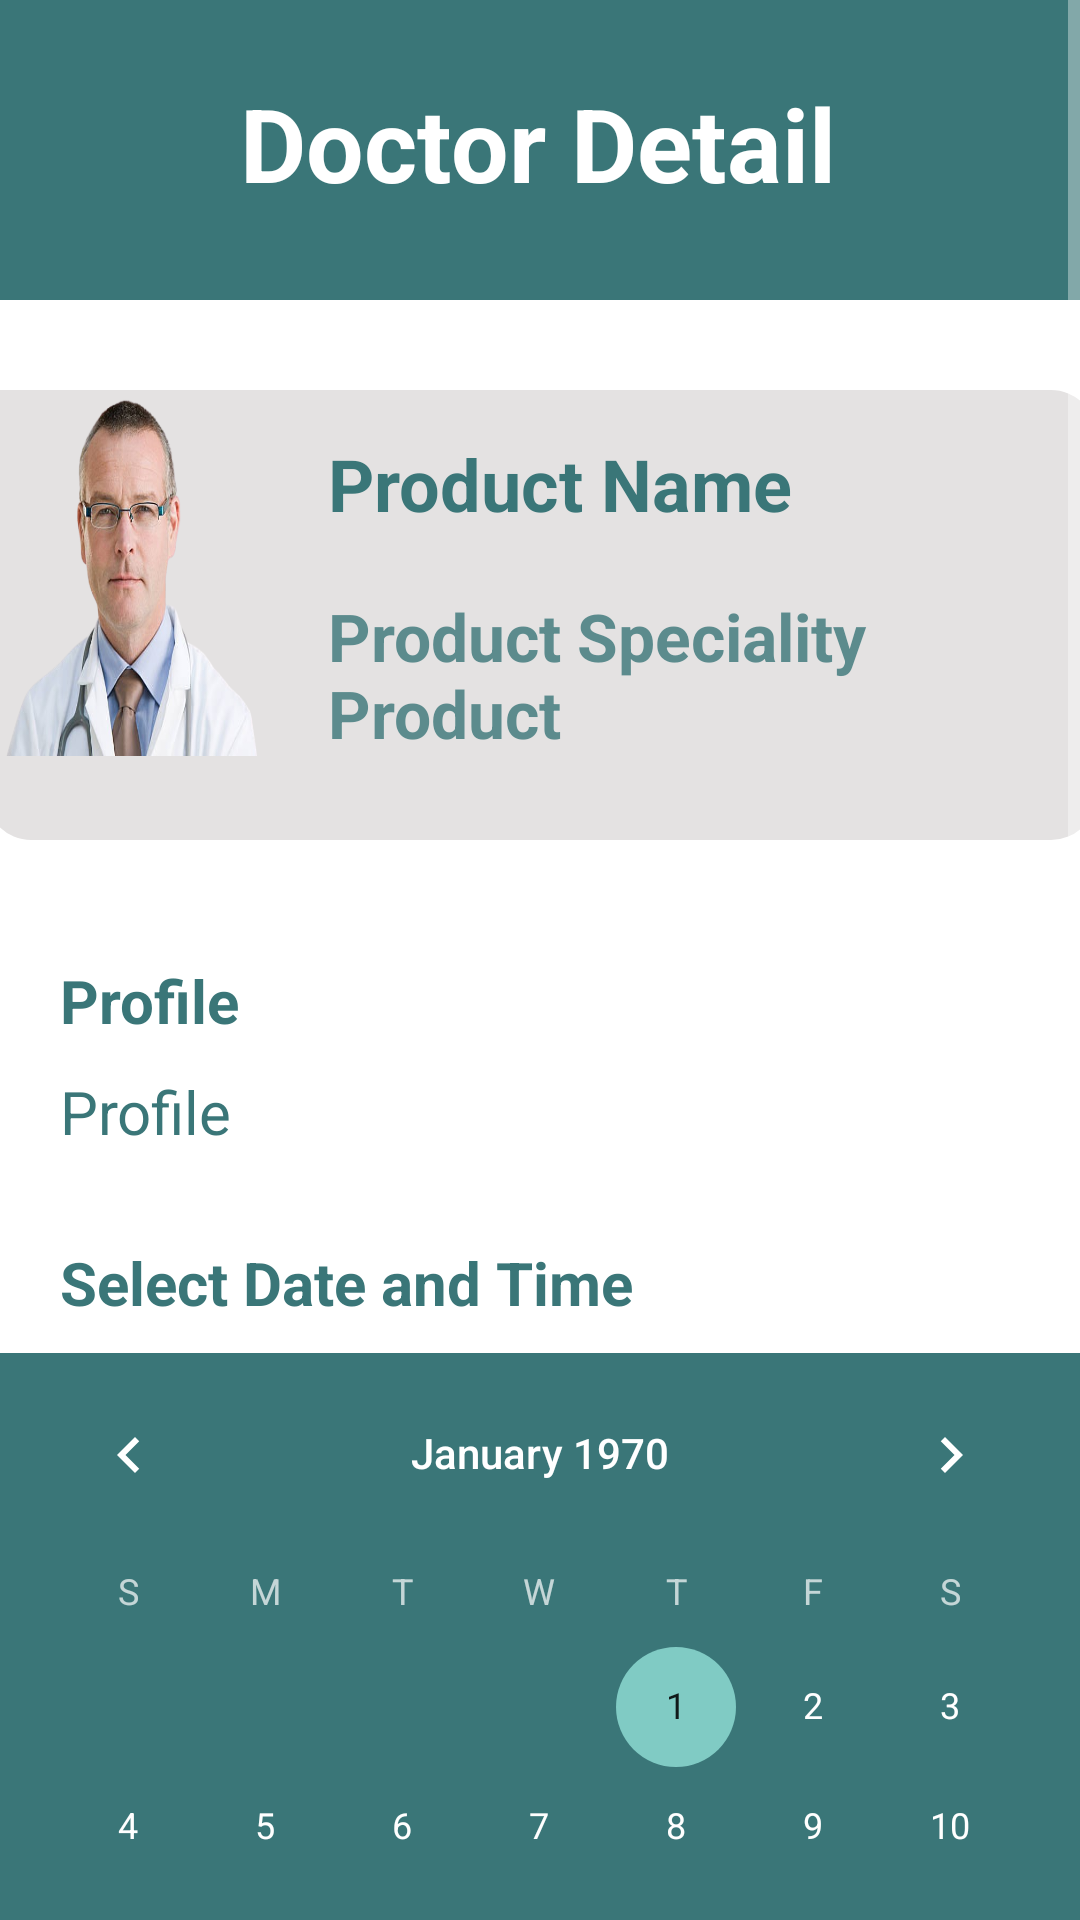

Named icons in this screenshot (1080px×1920px) and their centers, (x,y):
doctor: (131,578)
